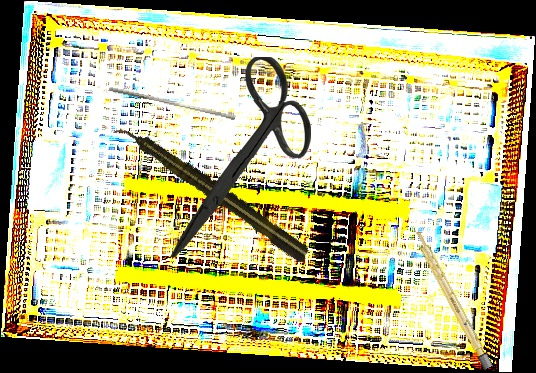Handpiece: (112, 116, 313, 266)
Iris Scissors: (169, 55, 313, 260)
Pusher: (107, 86, 237, 121)
Scalpel Handle: (410, 227, 494, 371)
